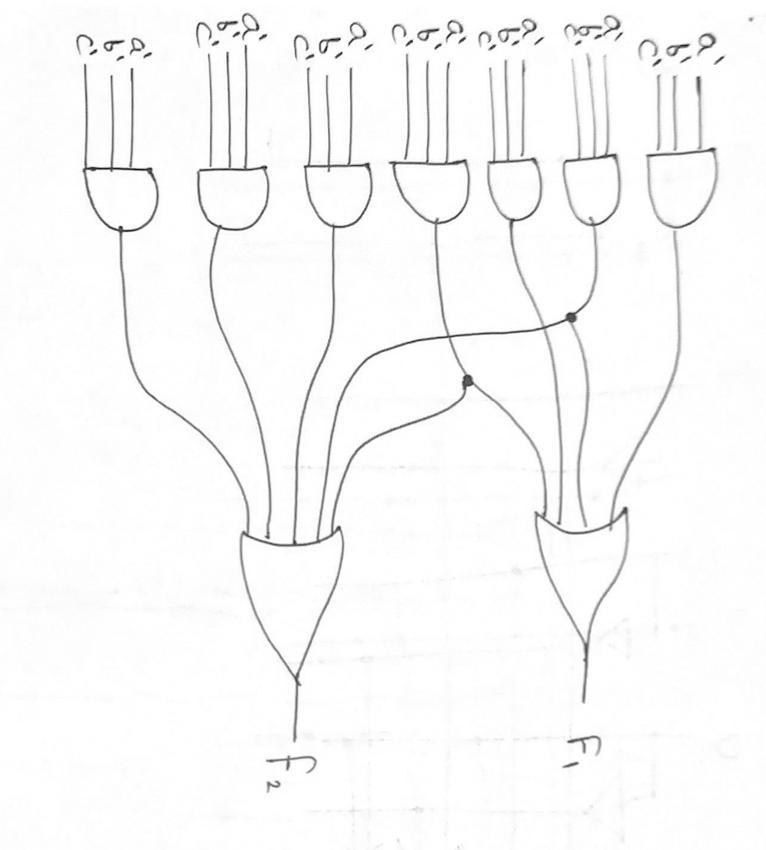AND: (65, 152, 171, 244), (193, 147, 280, 242), (640, 133, 722, 231), (300, 153, 382, 241), (391, 147, 476, 230), (557, 142, 627, 230), (481, 148, 546, 226)
OR: (237, 510, 367, 694), (523, 492, 653, 657)
